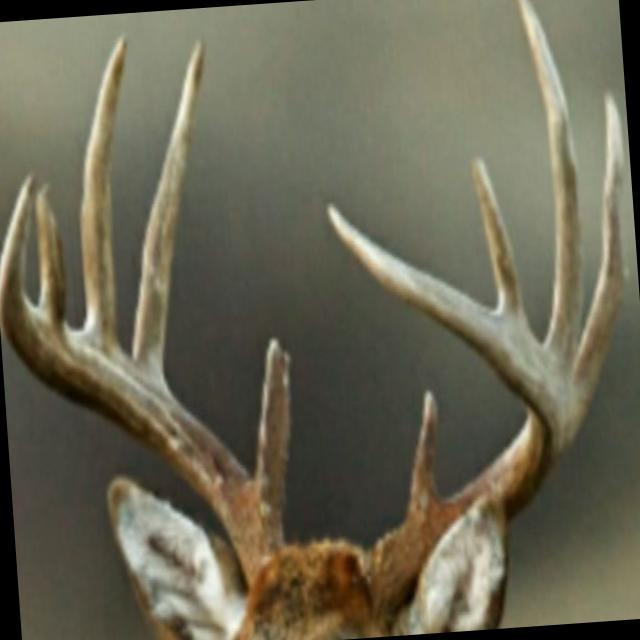L-F: (0, 166, 287, 600), (325, 196, 587, 627)
L-G1: (403, 387, 441, 519)
L-G2: (571, 87, 626, 413)
L-G3: (515, 0, 582, 373)
L-G5: (469, 156, 529, 328)
R-G1: (254, 332, 292, 527)
R-G2: (128, 36, 206, 380)
R-G3: (77, 31, 131, 345)
R-G4: (34, 180, 65, 324)
